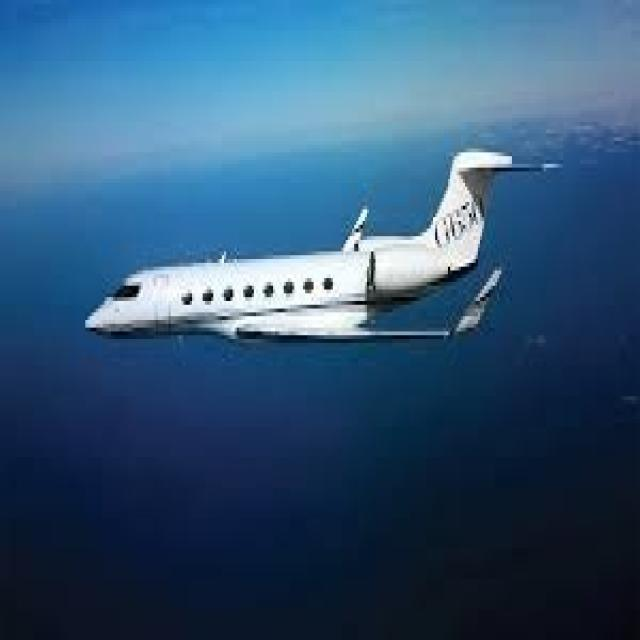jet: (0, 95, 601, 395)
